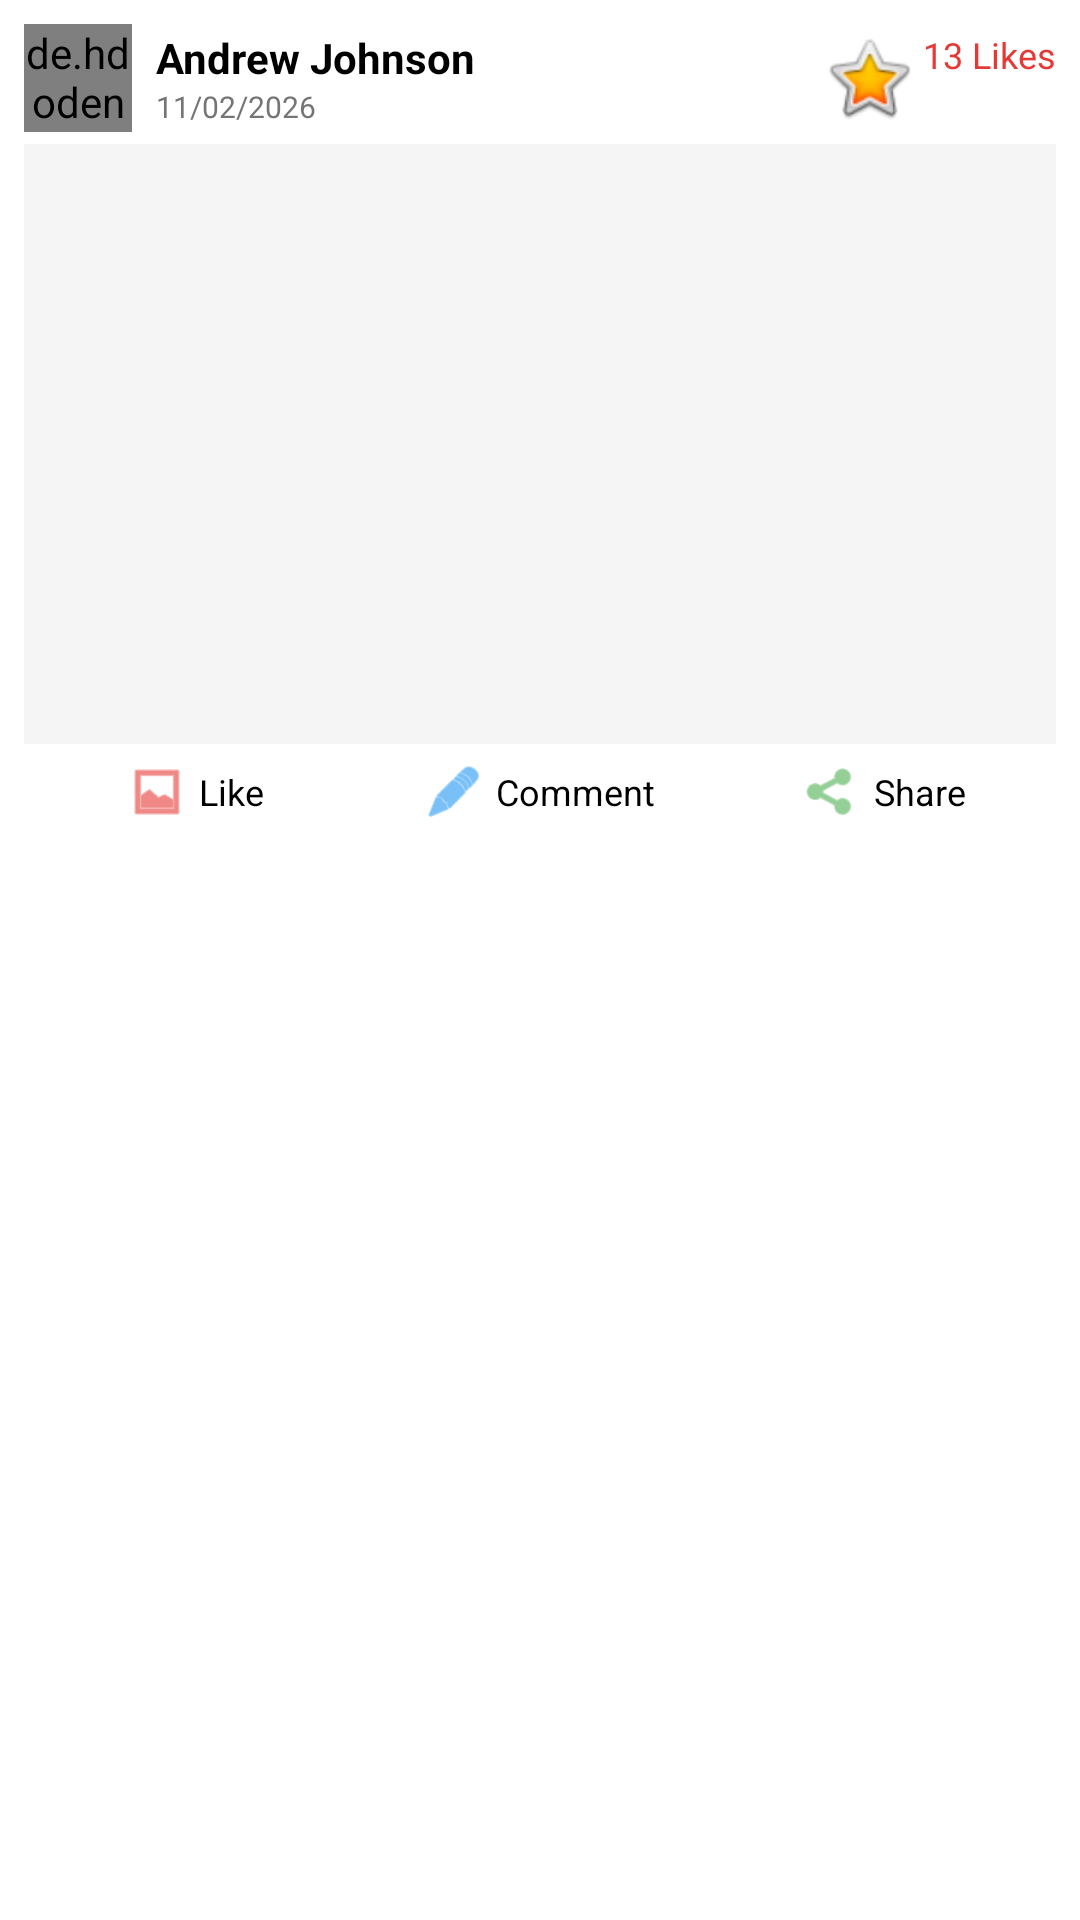

Named icons in this screenshot (1080w x 1920h) and their bounding boxes, (x1, y1, x2, y2):
edit: (428, 766, 479, 817)
gallery: (134, 769, 180, 815)
